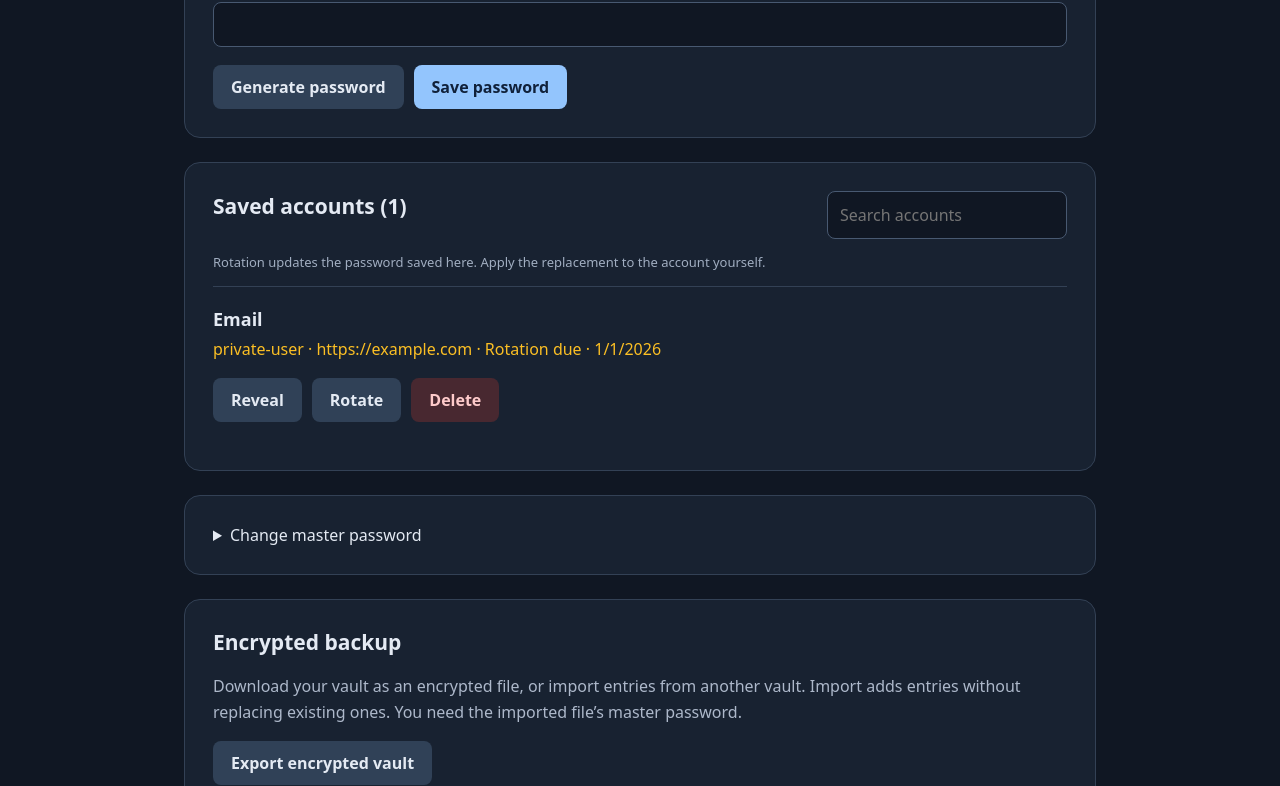
vault workflows › allows manual locking during a pending request and aborts that request
This screenshot has width=1280, height=786.
(page scrolled)
Click the button "Reveal" at (257,400), box [213,378,302,422]
(page scrolled)
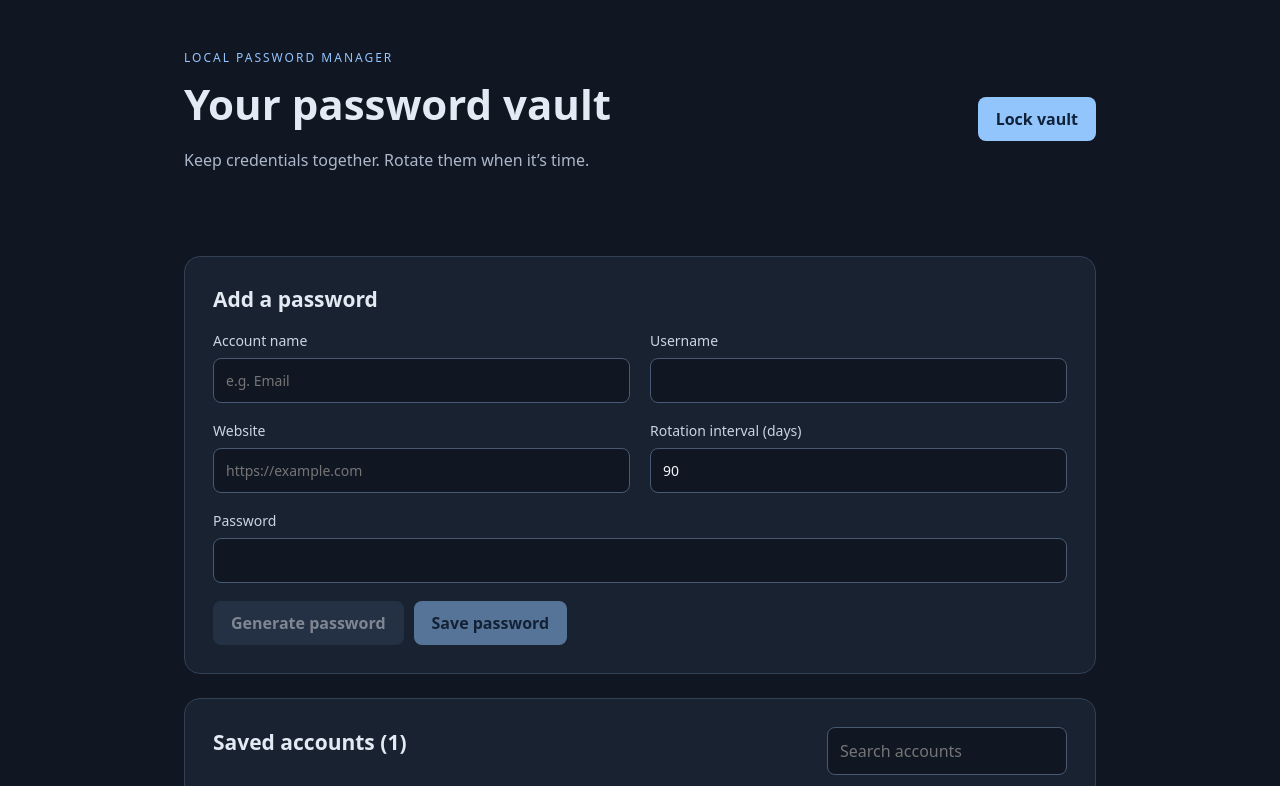
Click the button "Lock vault" at (1037,119), box [978,97,1096,141]
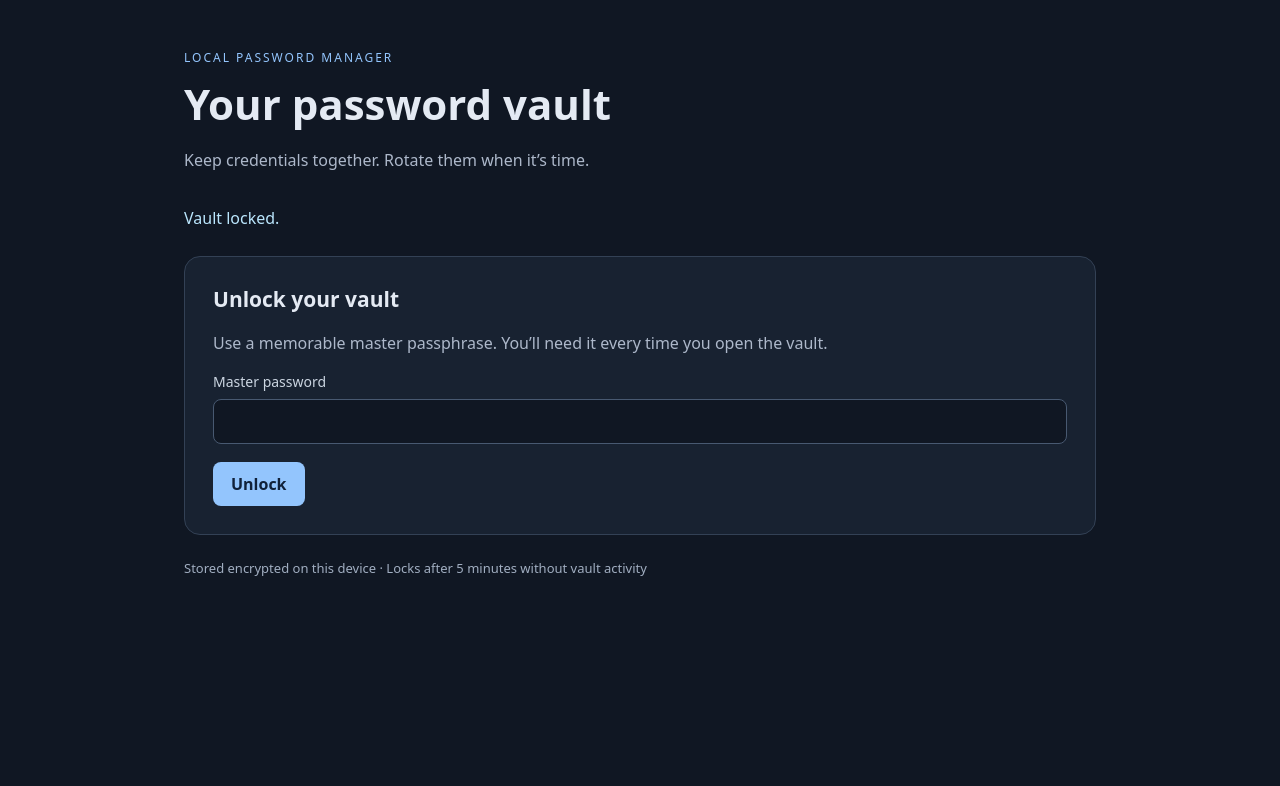
Check: the heading "Unlock your vault" is shown, box [213,285,399,313]
Check: the message reads "Vault locked.", box [184,207,279,229]
